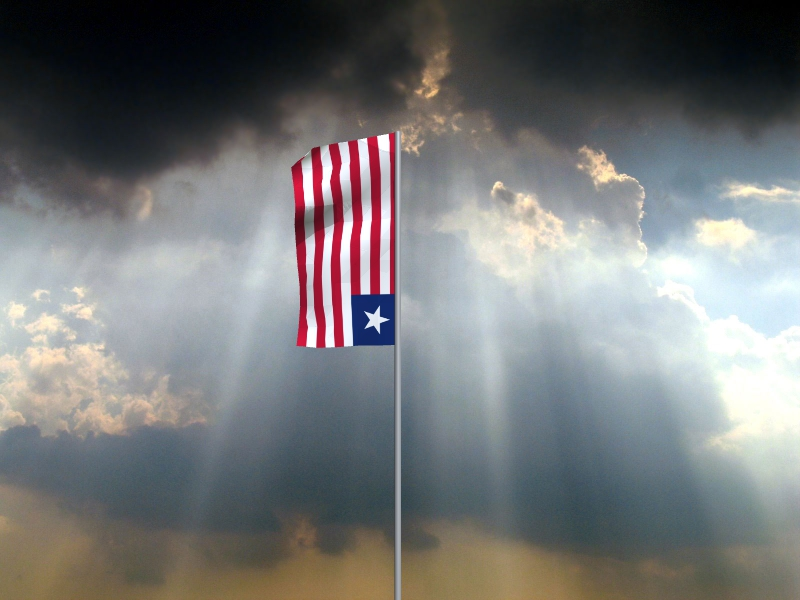lr: (290, 133, 395, 350)
